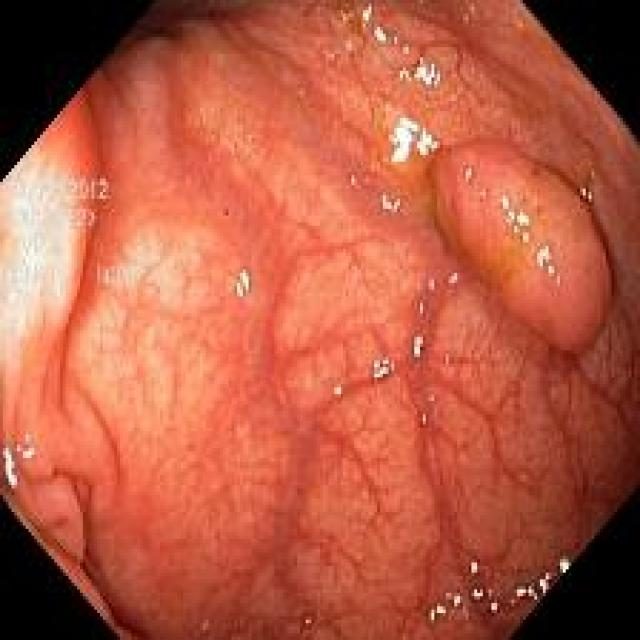Polyps: (431, 139, 611, 350), (1, 91, 108, 436)
